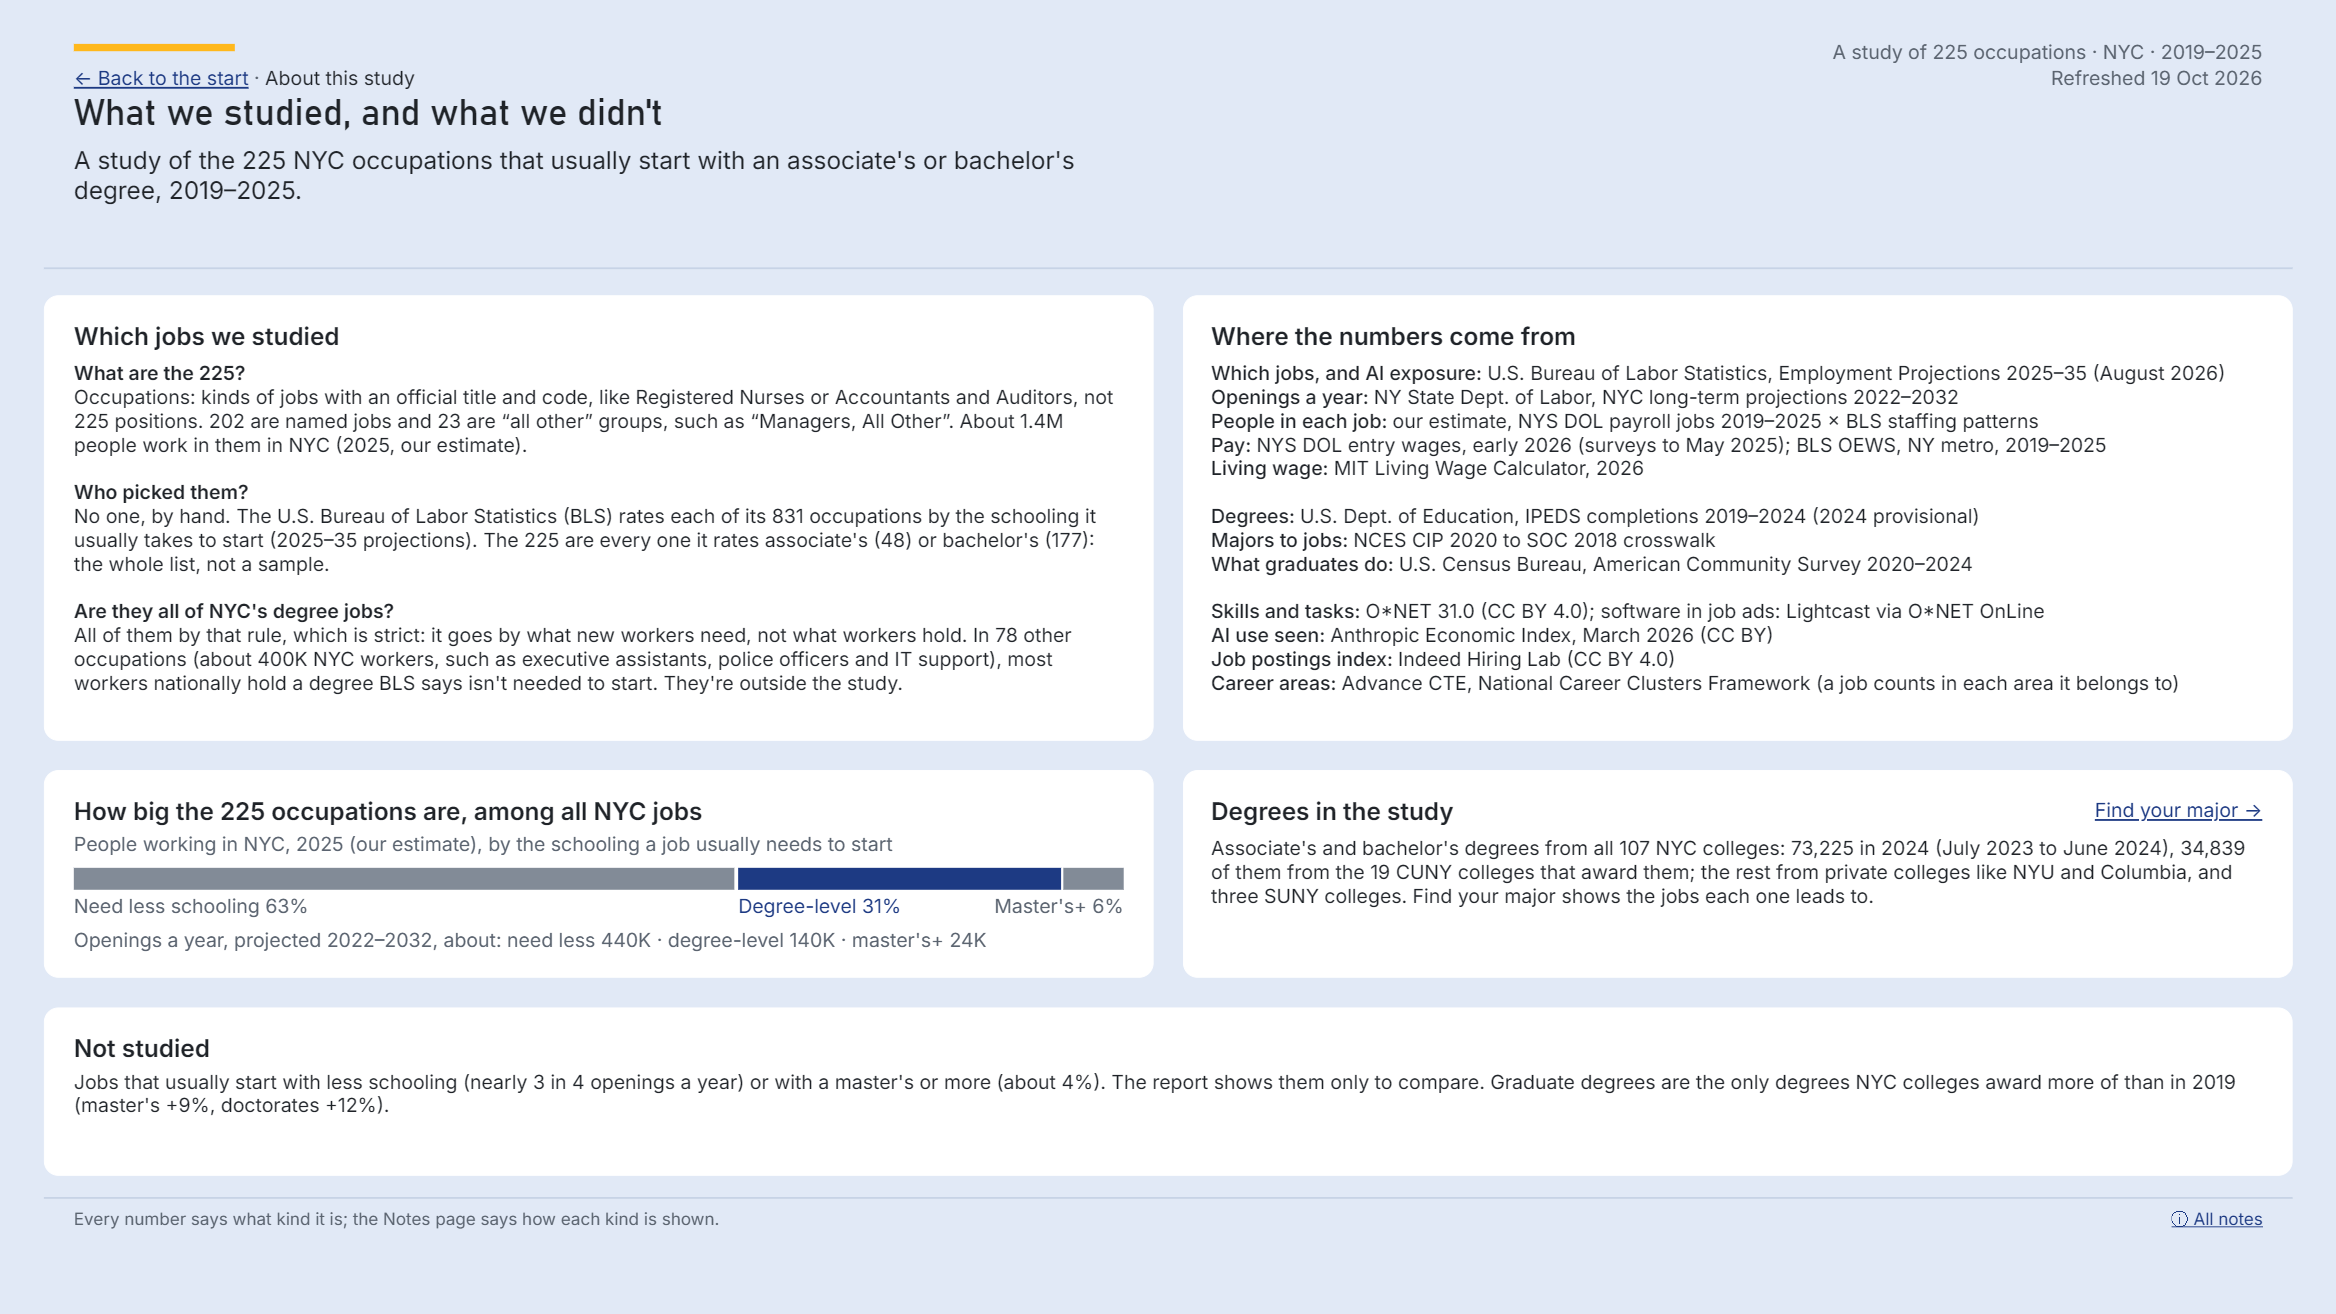

This screenshot's page, from the dashboard's own definition file:
{"tool":"powerbi","page":{"name":"About this study","canvas":[1280,720],"ordinal":5},"visuals":[{"type":"shape","box":[40,24,88,4],"z":2000},{"type":"textbox","box":[40,36,576,14],"z":3000},{"type":"actionButton","box":[40,36,96,14],"z":4000},{"type":"textbox","box":[40,50,576,28],"z":5000},{"type":"textbox","box":[40,80,576,52],"z":6000},{"type":"textbox","box":[664,22,576,14],"z":7000},{"type":"shape","box":[664,36,576,14],"z":8000},{"type":"shape","box":[24,146,1232,1],"z":9000},{"type":"shape","box":[24,162,608,244],"z":10000},{"type":"textbox","box":[40,176,576,18],"z":11000},{"type":"textbox","box":[40,198,576,196],"z":12000},{"type":"shape","box":[24,422,608,114],"z":13000},{"type":"textbox","box":[40,436,576,18],"z":14000},{"type":"textbox","box":[40,456,576,16],"z":15000},{"type":"shape","box":[40,476,362,12],"z":16000},{"type":"shape","box":[404,476,177,12],"z":17000},{"type":"shape","box":[583,476,33,12],"z":18000},{"type":"textbox","box":[40,490,300,16],"z":19000},{"type":"textbox","box":[404,490,120,16],"z":20000},{"type":"textbox","box":[536,490,80,16],"z":21000},{"type":"textbox","box":[40,508,576,16],"z":22000},{"type":"shape","box":[24,552,1232,92],"z":23000},{"type":"textbox","box":[40,566,1200,18],"z":24000},{"type":"textbox","box":[40,586,1200,48],"z":25000},{"type":"shape","box":[648,162,608,244],"z":26000},{"type":"textbox","box":[664,176,576,18],"z":27000},{"type":"textbox","box":[664,198,576,196],"z":28000},{"type":"shape","box":[648,422,608,114],"z":29000},{"type":"textbox","box":[664,436,360,18],"z":30000},{"type":"actionButton","box":[1040,437,200,16],"z":31000},{"type":"textbox","box":[664,458,576,52],"z":32000},{"type":"shape","box":[24,656,1232,1],"z":33000},{"type":"actionButton","box":[1184,662,56,14],"z":34000},{"type":"shape","title":"Every number says what kind it is; the Notes page says how each kind is shown.","box":[40,662,500,12],"z":35000}]}

Visuals, with their boxes in screenshot pixels (x1, y1, x2, y2), scaled from the page's 1280x720 canvas onto the 2336x1314 screenshot:
shape: 73,44,234,51
textbox: 73,66,1124,91
actionButton: 73,66,248,91
textbox: 73,91,1124,142
textbox: 73,146,1124,241
textbox: 1212,40,2263,66
shape: 1212,66,2263,91
shape: 44,266,2292,268
shape: 44,296,1153,741
textbox: 73,321,1124,354
textbox: 73,361,1124,719
shape: 44,770,1153,978
textbox: 73,796,1124,829
textbox: 73,832,1124,861
shape: 73,869,734,891
shape: 737,869,1060,891
shape: 1064,869,1124,891
textbox: 73,894,620,923
textbox: 737,894,956,923
textbox: 978,894,1124,923
textbox: 73,927,1124,956
shape: 44,1007,2292,1175
textbox: 73,1033,2263,1066
textbox: 73,1069,2263,1157
shape: 1183,296,2292,741
textbox: 1212,321,2263,354
textbox: 1212,361,2263,719
shape: 1183,770,2292,978
textbox: 1212,796,1869,829
actionButton: 1898,798,2263,827
textbox: 1212,836,2263,931
shape: 44,1197,2292,1199
actionButton: 2161,1208,2263,1234
"Every number says what kind it is; the Notes page says how each kind is shown." shape: 73,1208,986,1230
